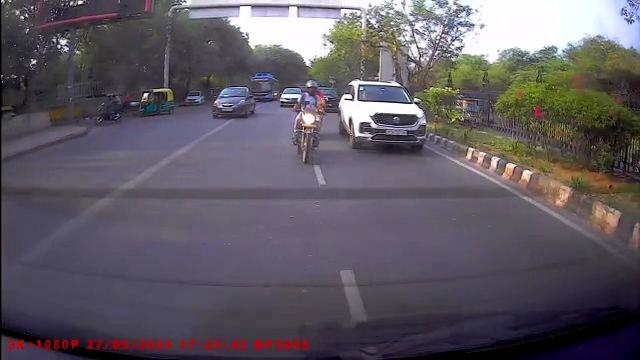motorcycle_with_helmet: (290, 78, 326, 165)
